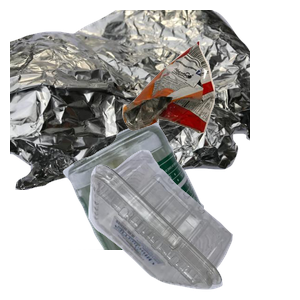glass: (60, 120, 300, 300)
metal: (10, 10, 250, 190)
plastic: (86, 147, 300, 300)
trash: (120, 38, 300, 164)
